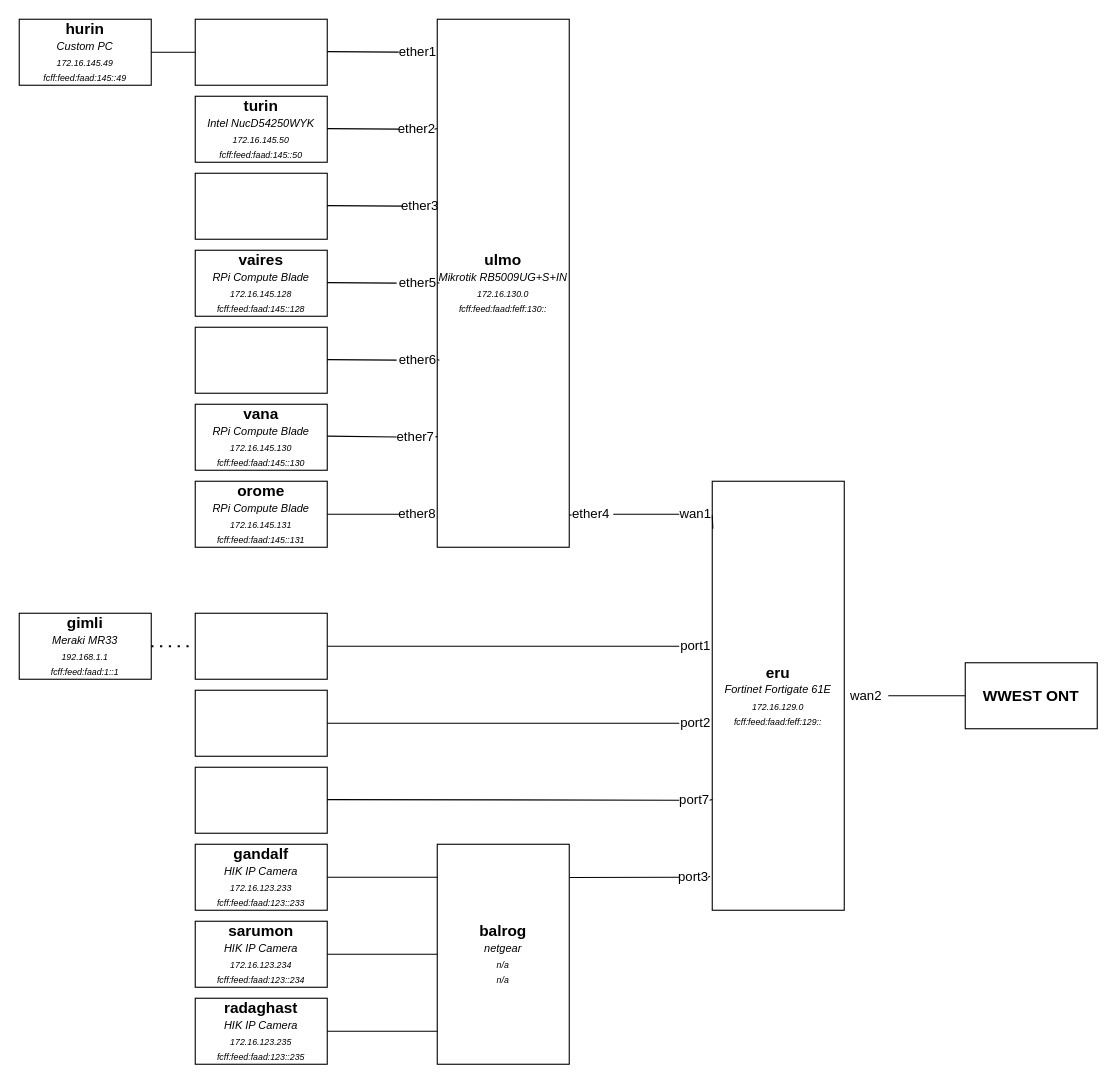
Some shapes in this 1117 by 1084 pixel diagram are drawn without their labels. Here are the shapes that lost their labels. From the top down, the centre of each, then its label:
the point at 260,51: earendil SZBOX S100 172.16.145.48 fcff:feed:faad:145::48
the point at 260,205: beren Synology DS216j 172.16.145.41 fcff:feed:faad:145::41
the point at 260,359: mandos RPi Compute Blade 172.16.145.129 fcff:feed:faad:145::129
the point at 260,645: boromir Meraki MR33 172.16.123.8 fcff:feed:faad:123::8
the point at 260,722: galadriel Mikrotik Netmetal ac2 172.16.123.9 fcff:feed:faad:123::9
the point at 260,799: nameless RPi Model 3B 172.16.123.250 fcff:feed:faad:123::250
